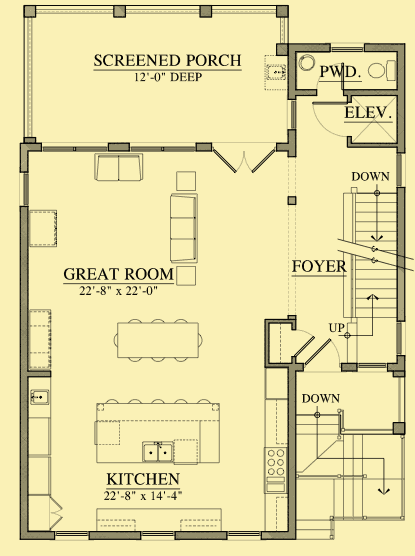dining_table: (111, 317, 204, 368)
door: (211, 140, 280, 176), (311, 99, 350, 141), (303, 339, 341, 371), (314, 62, 347, 97), (289, 328, 315, 359)
kitchen_bar: (92, 398, 222, 467)
large_sink: (366, 56, 396, 85)
large_sofa: (165, 191, 202, 265), (91, 152, 144, 185)
stairs: (294, 391, 406, 543), (348, 185, 400, 339)
window: (19, 169, 35, 207), (224, 529, 266, 542), (136, 528, 175, 542), (327, 41, 365, 55), (52, 530, 89, 542)
